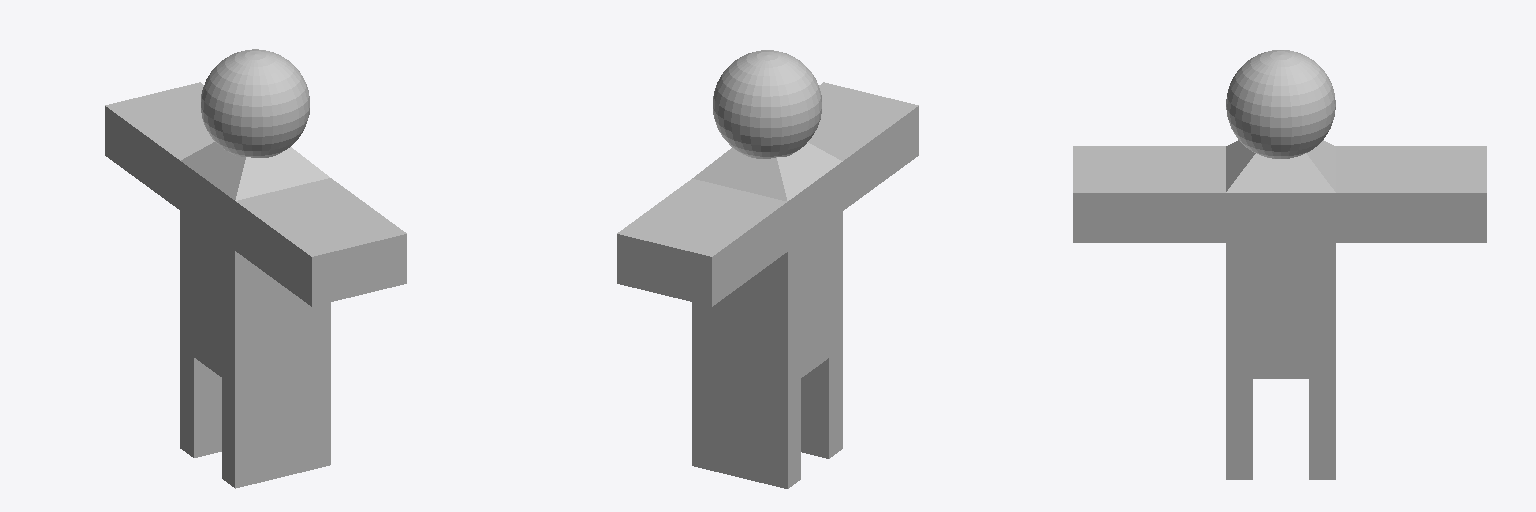
File: enemy4.obj
3 views of the same model, side by side, from view 1: azimuth 30°, elevation 25°; view 2: azimuth 150°, elevation 25°; view 3: azimuth 270°, elevation 25° (orthographic).
Parts seen in each view (by area): view 1: Cube_Cube.010, Sphere_Sphere.002; view 2: Cube_Cube.010, Sphere_Sphere.002; view 3: Cube_Cube.010, Sphere_Sphere.002.
Part boxes in pixels (x1,y1,x2,y2): Cube_Cube.010: (105, 82, 406, 488); Sphere_Sphere.002: (201, 49, 309, 157); Cube_Cube.010: (617, 82, 918, 488); Sphere_Sphere.002: (713, 50, 821, 158); Cube_Cube.010: (1073, 140, 1486, 479); Sphere_Sphere.002: (1226, 50, 1335, 158).
Size of the model in its own units: 2 by 8.06 by 7.52.